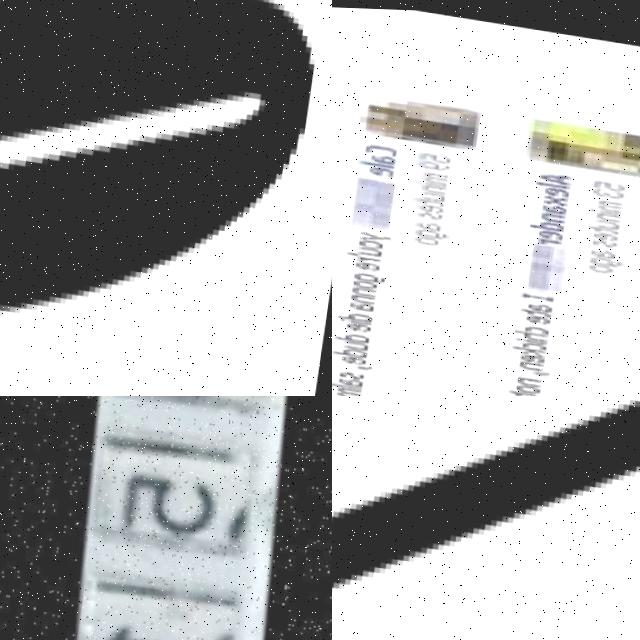1: (83, 593, 207, 640), (589, 174, 628, 189), (419, 148, 450, 161)
5: (100, 448, 226, 545), (416, 157, 451, 170)
A: (536, 167, 571, 182), (538, 197, 569, 212), (524, 297, 556, 310), (367, 151, 395, 163), (337, 374, 365, 386), (414, 217, 442, 229), (589, 244, 617, 256), (348, 299, 376, 310)
C: (360, 141, 396, 154), (524, 319, 550, 331), (520, 338, 548, 347)
D: (334, 307, 373, 321), (525, 215, 564, 229), (332, 327, 369, 341), (332, 343, 369, 357)
E: (364, 162, 395, 177), (339, 351, 370, 364), (523, 309, 554, 322), (517, 348, 548, 361), (592, 226, 623, 239), (536, 224, 564, 238), (353, 258, 382, 270), (346, 319, 372, 331), (417, 200, 443, 212), (544, 182, 569, 193)
G: (413, 225, 451, 237), (588, 252, 626, 264), (351, 269, 386, 282)
H: (512, 326, 546, 337)
I: (520, 288, 554, 297), (587, 203, 621, 211), (337, 316, 371, 323), (412, 177, 446, 184), (514, 334, 548, 341)
K: (508, 341, 546, 353)
L: (358, 158, 392, 165), (332, 379, 362, 386), (533, 179, 568, 185)
M: (595, 194, 620, 208), (335, 384, 363, 396), (422, 168, 447, 181)
N: (420, 181, 448, 193), (518, 356, 546, 368), (514, 371, 542, 383), (538, 208, 567, 219), (350, 283, 378, 294), (349, 291, 377, 302), (596, 207, 621, 218)
O: (356, 236, 384, 248), (351, 276, 379, 288), (412, 231, 440, 243), (516, 380, 541, 392), (587, 260, 615, 270), (334, 393, 362, 396)
R: (356, 253, 381, 262), (534, 235, 561, 243)
S: (338, 367, 366, 379), (415, 208, 444, 218), (590, 235, 619, 244)
T: (411, 193, 445, 204), (507, 386, 541, 395), (519, 305, 553, 313), (589, 221, 619, 230)
U: (341, 336, 369, 348), (356, 244, 384, 254), (421, 188, 446, 199), (595, 215, 620, 226)
V: (332, 396, 640, 640)
X: (539, 189, 570, 204)
Y: (357, 228, 392, 241)
